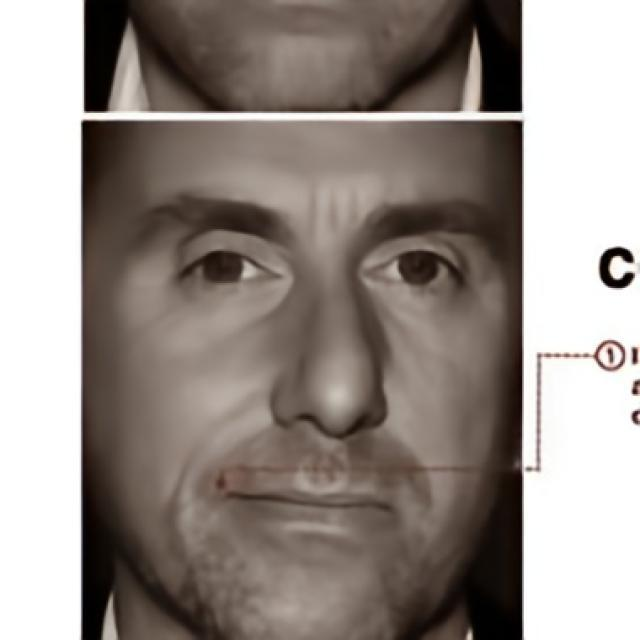content: (83, 123, 524, 640)
